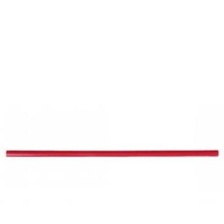drinking_straw: (2, 144, 222, 162)
